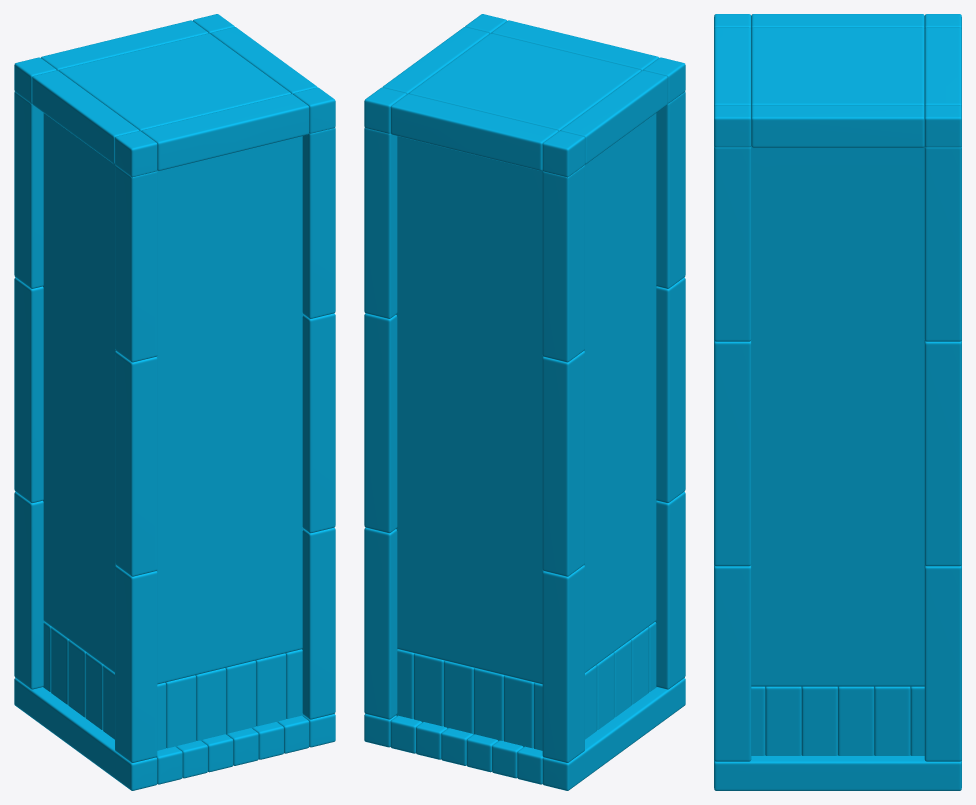
The model's file is SM_Wood_Body_04.fbx.
The picture shows the model from 3 angles, left to right: view 1: azimuth 30°, elevation 25°; view 2: azimuth 150°, elevation 25°; view 3: azimuth 270°, elevation 25°; orthographic projection. The views are drawn at different scales.
Visible parts, largest first — view 1: SM_Wood_Body_04; view 2: SM_Wood_Body_04; view 3: SM_Wood_Body_04.
Boxes of the visible parts, x1=… form: SM_Wood_Body_04: x1=14, y1=14, x2=335, y2=790; SM_Wood_Body_04: x1=364, y1=14, x2=685, y2=790; SM_Wood_Body_04: x1=714, y1=14, x2=961, y2=790.
Bounding box in the file's own units: 2.5 × 7.5 × 2.5.
